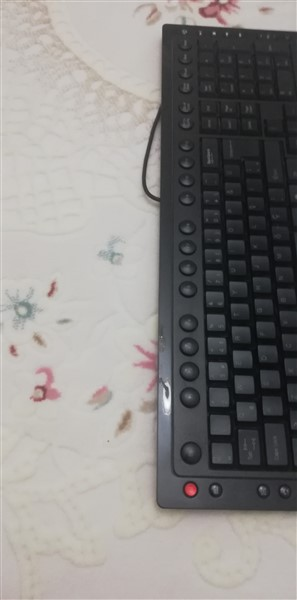klavye: (152, 21, 297, 521)
